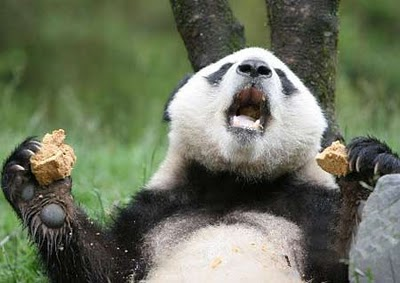panda: (2, 46, 399, 281)
